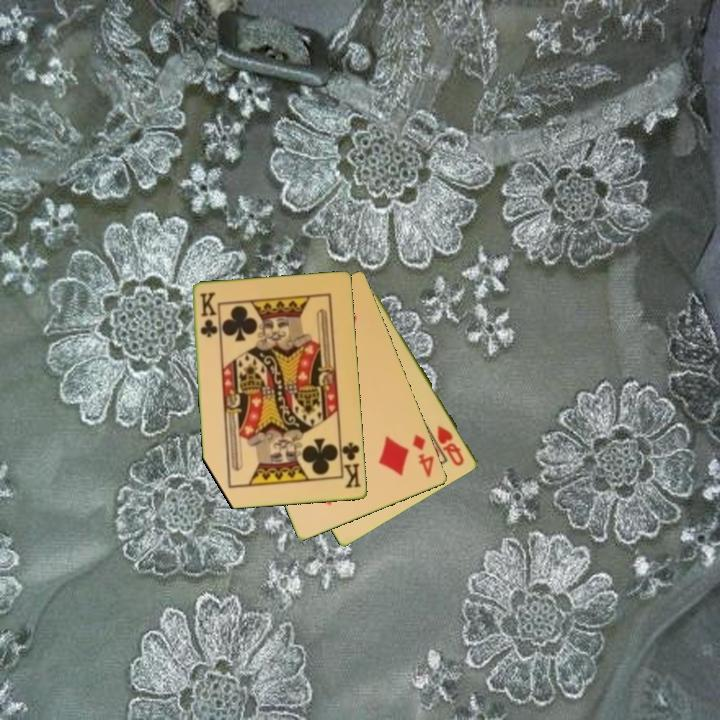4d: (409, 431, 437, 481)
Kc: (337, 438, 364, 491), (197, 289, 220, 340)
Qh: (434, 422, 467, 469)
